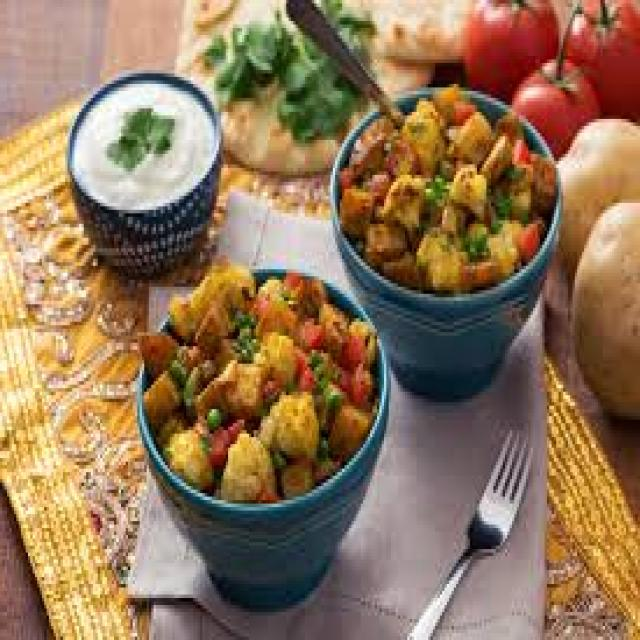Aloo Gobi: (153, 274, 359, 524)
